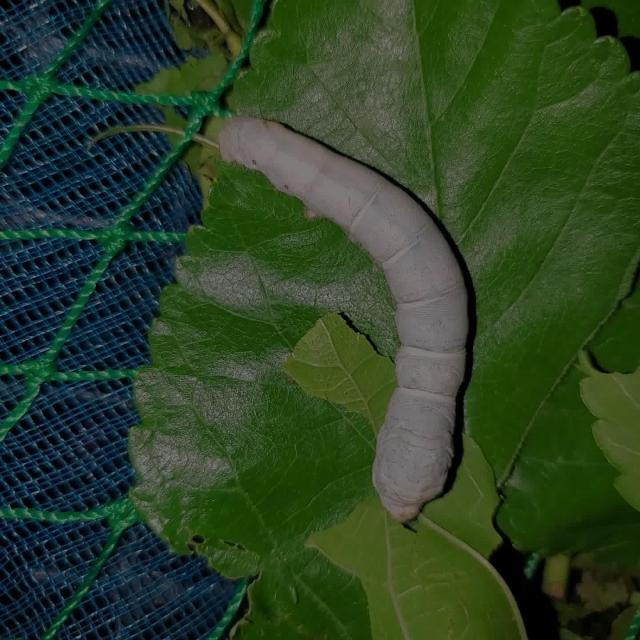Healthy: (185, 91, 507, 554)
